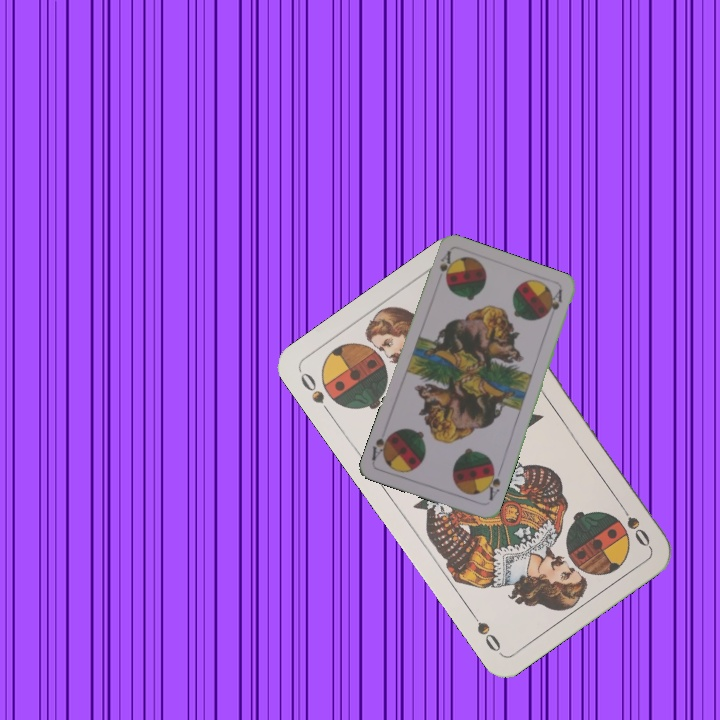SA: (482, 464, 503, 503), (435, 247, 455, 284)
SO: (614, 497, 653, 550), (296, 368, 335, 419)
